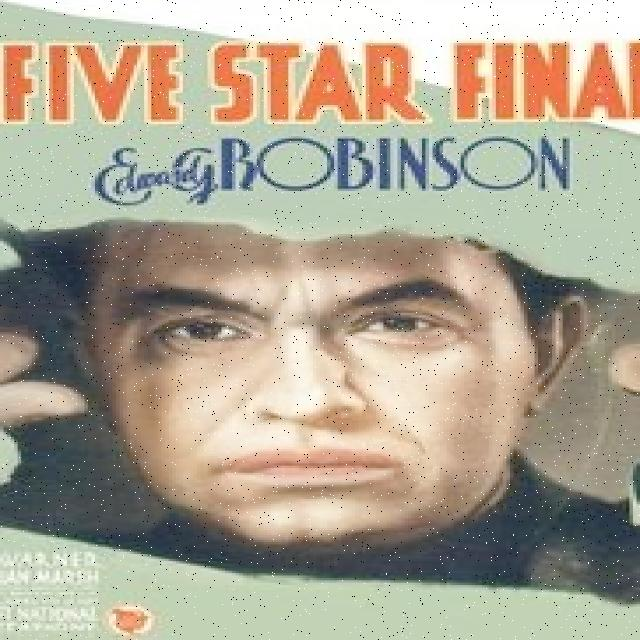movie-judul: (0, 20, 640, 217)
picture: (0, 216, 640, 640)
